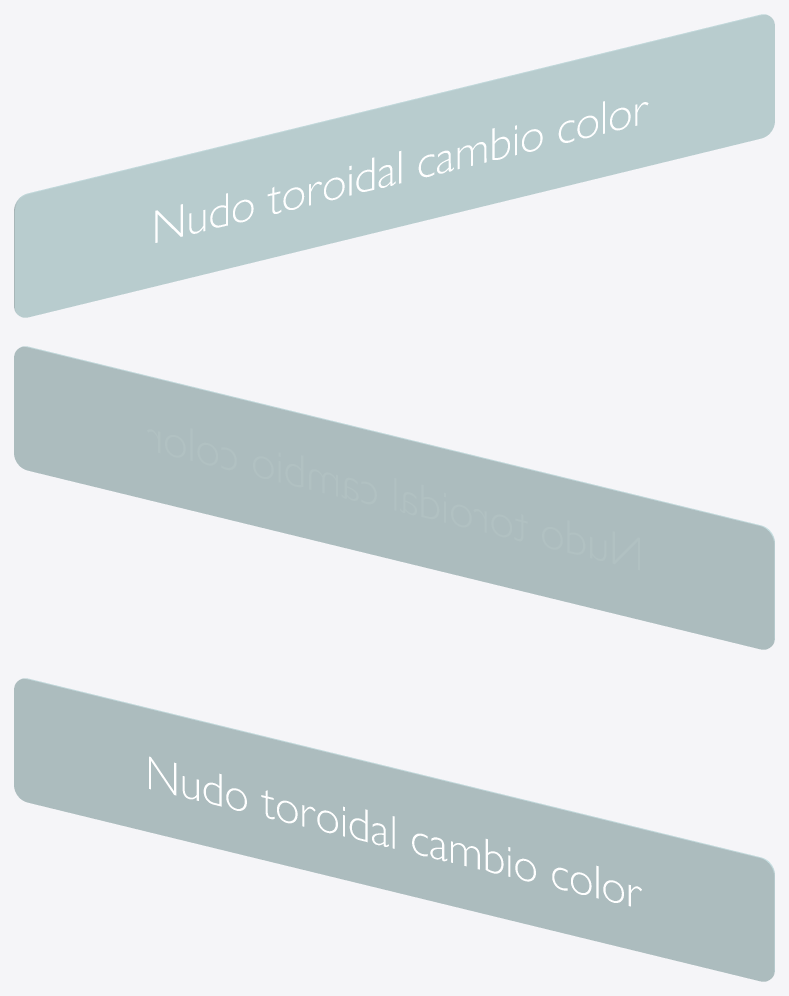
File: Panel_boton_escena_01.glb
3 views of the same model, one above another, from view 1: azimuth 30°, elevation 25°; view 2: azimuth 150°, elevation 25°; view 3: azimuth 330°, elevation 25° (orthographic).
Parts seen in each view (by area): view 1: panel_boton_escena_01; view 2: panel_boton_escena_01; view 3: panel_boton_escena_01.
Part boxes in pixels (x1,y1,x2,y2): panel_boton_escena_01: (14, 14, 774, 317); panel_boton_escena_01: (14, 346, 774, 649); panel_boton_escena_01: (14, 678, 774, 981).
Bounding box in the file's own units: 1.24 × 0.1916 × 0.0107.
